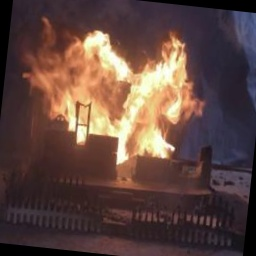fire: (34, 7, 212, 163)
